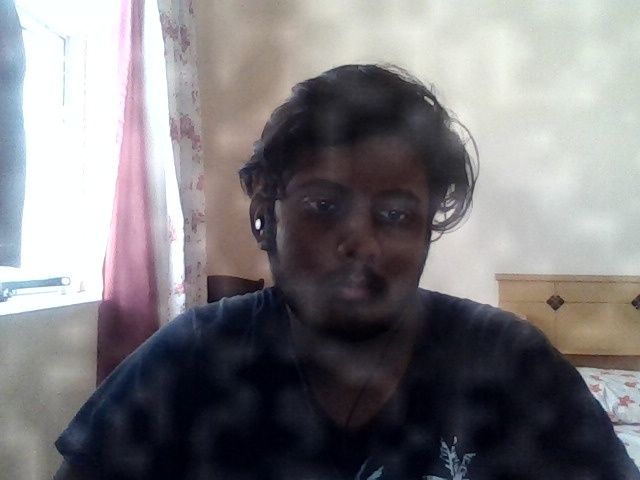thumbsdown: (189, 150, 286, 355)
